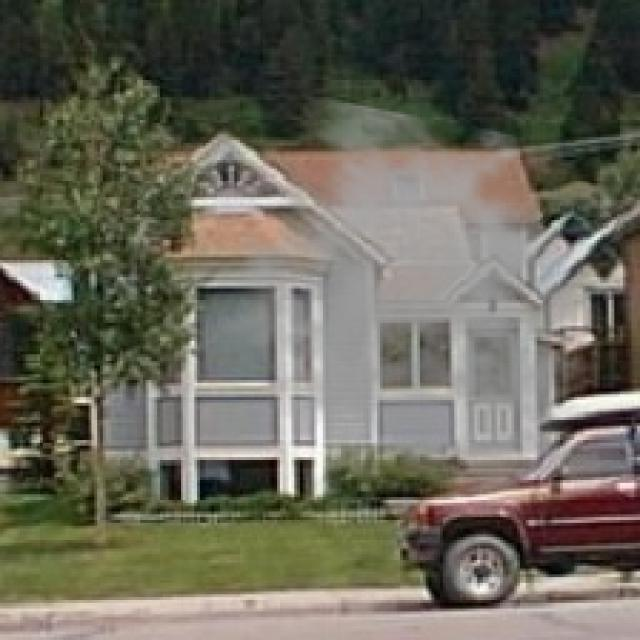smoke: (215, 97, 634, 497)
